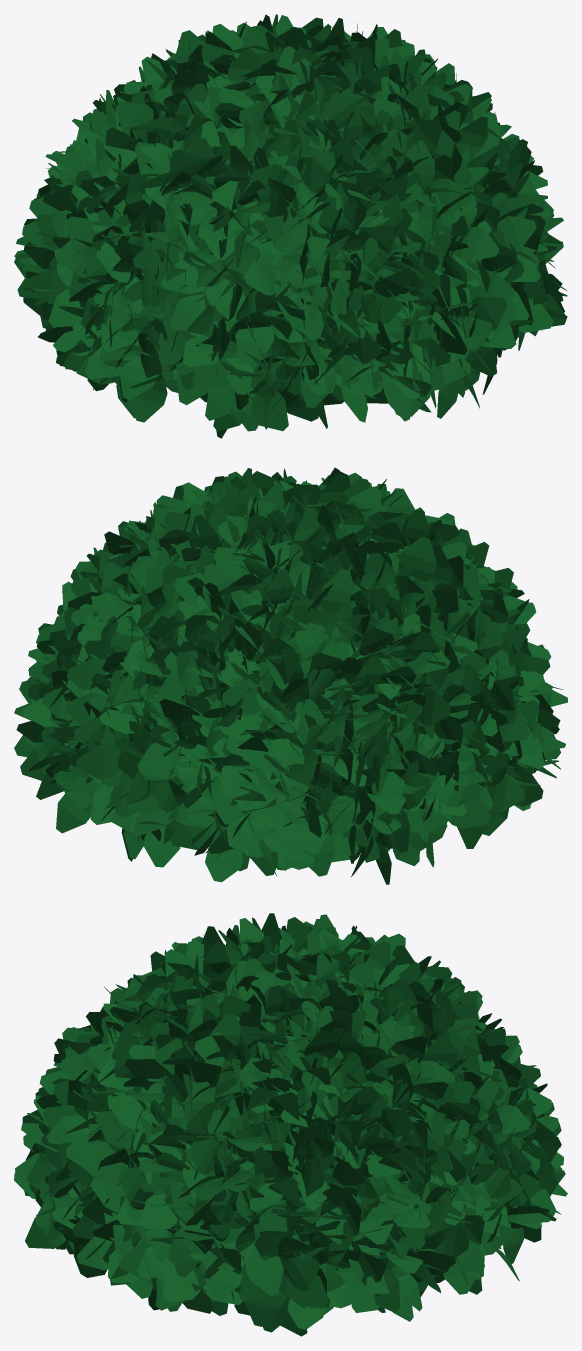
The model's file is Bush1.fbx.
The picture shows the model from 3 angles, top to bottom: view 1: azimuth 30°, elevation 25°; view 2: azimuth 150°, elevation 25°; view 3: azimuth 270°, elevation 25°; orthographic projection.
Parts seen in each view (by area): view 1: leaf.001; view 2: leaf.001; view 3: leaf.001.
Part boxes in pixels (box(x1,y1,x2,y2)): leaf.001: box(14, 14, 567, 438); leaf.001: box(14, 467, 567, 884); leaf.001: box(14, 913, 567, 1336).
Bounding box in the file's own units: 243 × 146 × 244.
